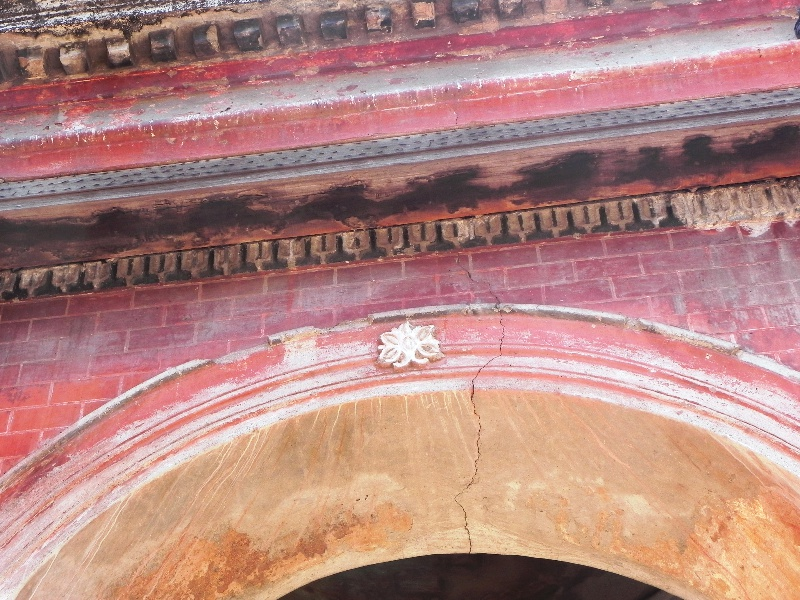Crack: (449, 376, 481, 553), (474, 270, 510, 372)
